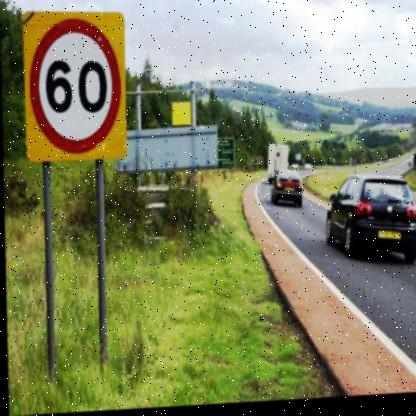Speed Limit -60-: (26, 20, 124, 156)
